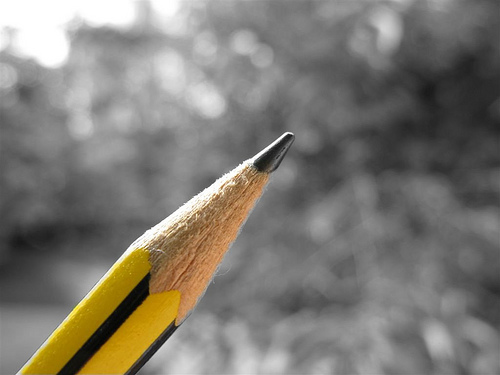pen_tip: (134, 125, 308, 322)
